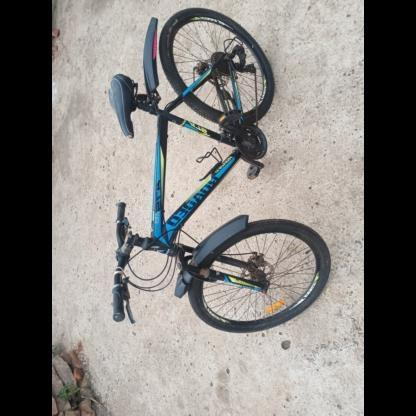Bicycle: (92, 0, 343, 375)
